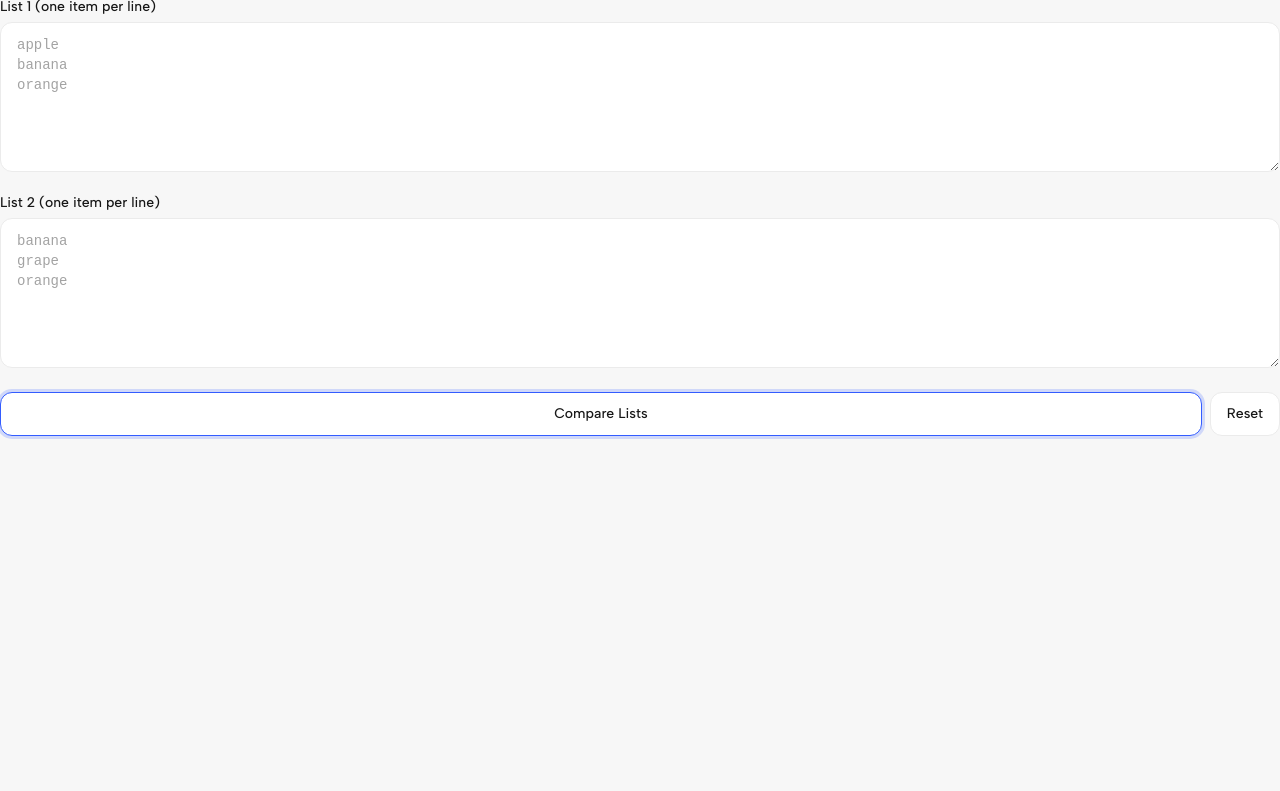
Test: ListComparerTool › compares two lists and shows results
The image size is (1280, 791).
Type "apple banana orange" into the text box with placeholder "apple banana orange" at {"x": 640, "y": 97}, box x1=0 y1=22 x2=1279 y2=172
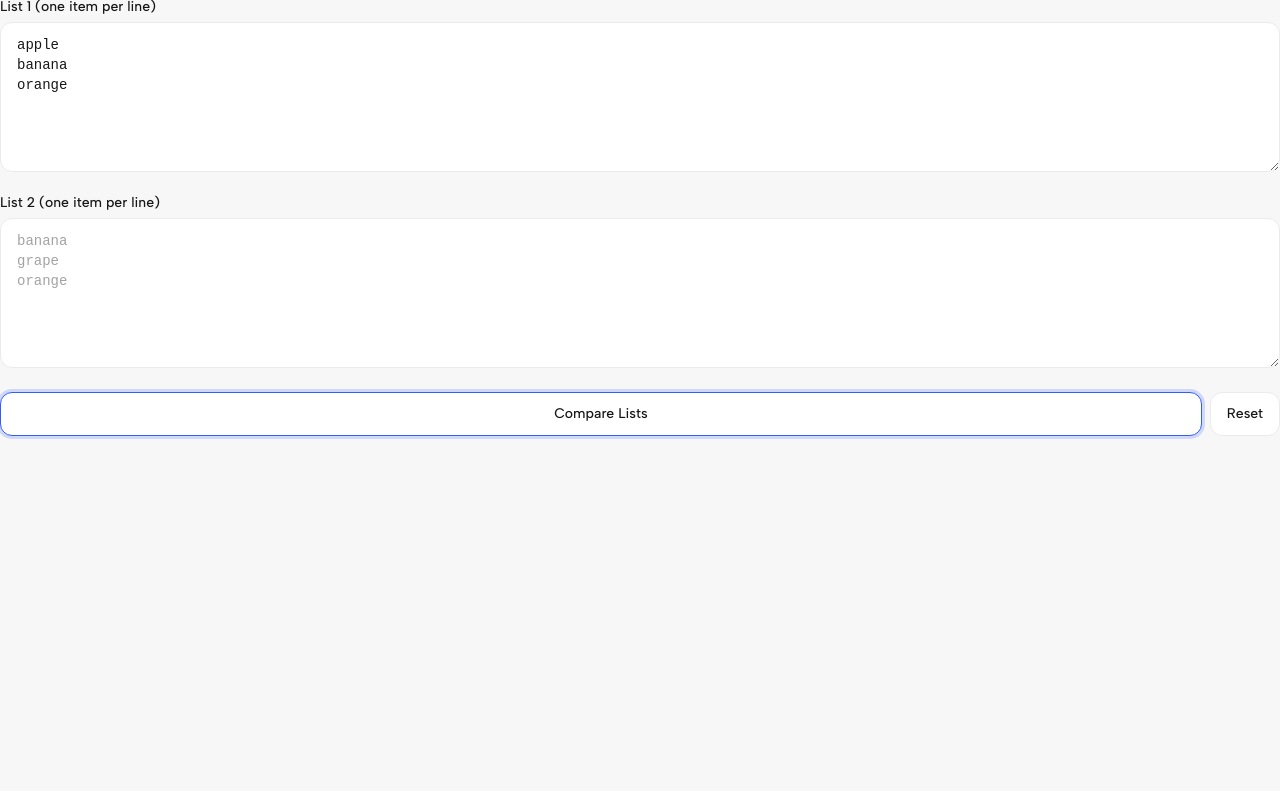
Type "banana grape orange" into the text box with placeholder "banana grape orange" at {"x": 640, "y": 293}, box x1=0 y1=218 x2=1279 y2=368
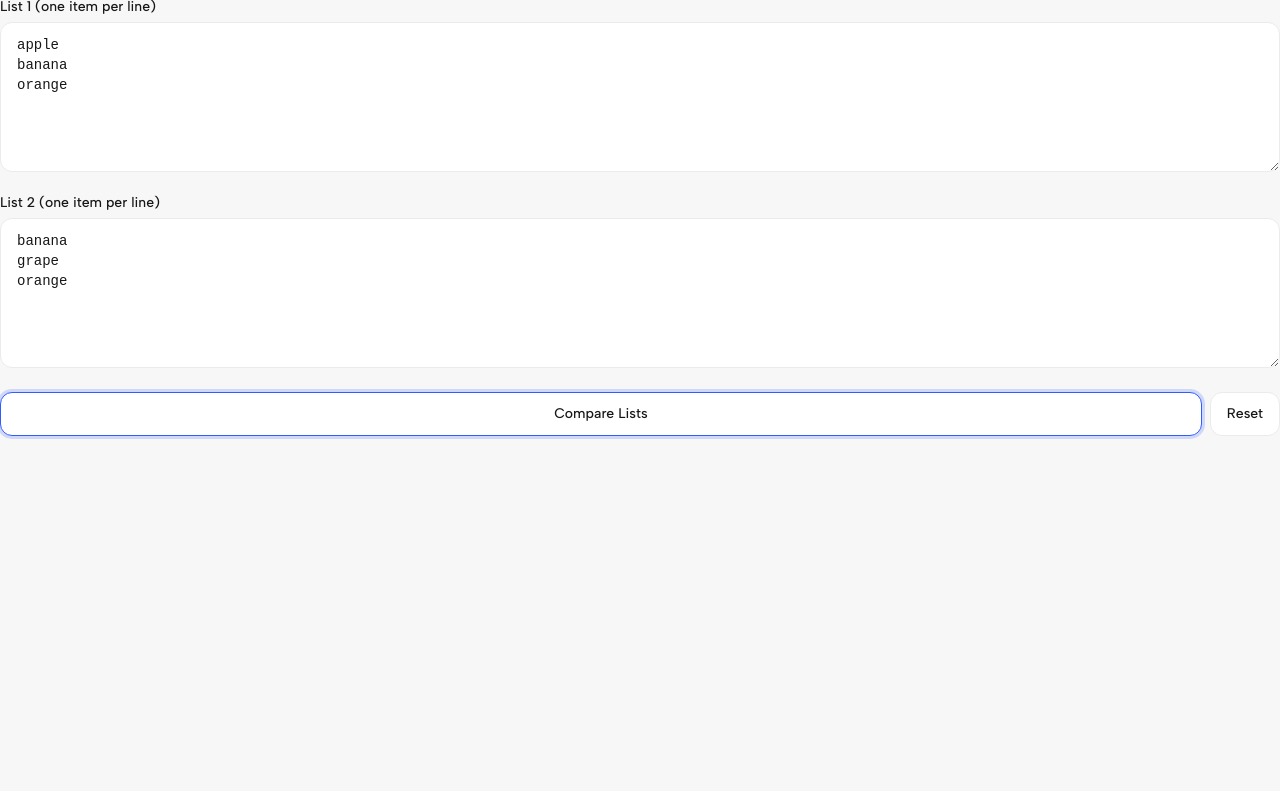
Click the button "Compare Lists" at {"x": 601, "y": 414}, box x1=0 y1=392 x2=1202 y2=436
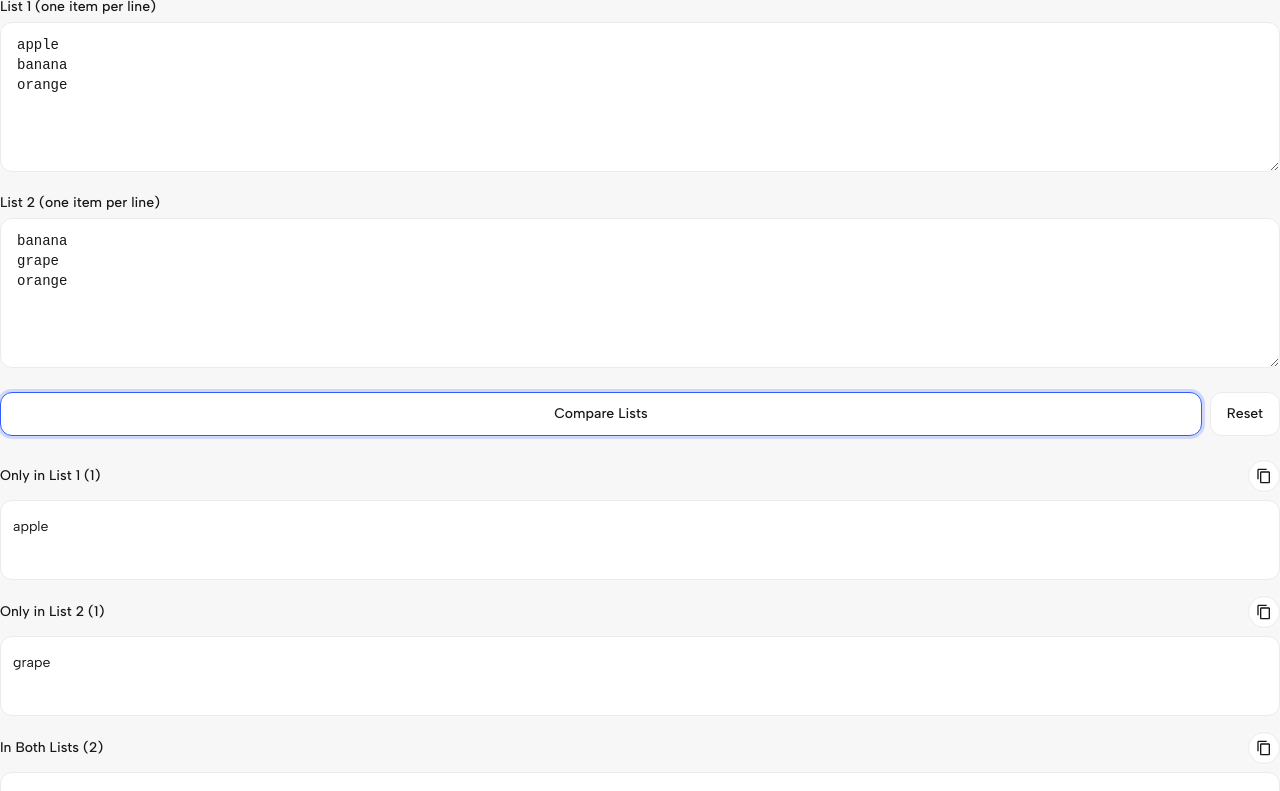
Check: the text "Only in List 1 (1)" is shown, box x1=0 y1=469 x2=100 y2=483
Check: the text "Only in List 2 (1)" is shown, box x1=0 y1=605 x2=104 y2=619
Check: the text "In Both Lists (2)" is shown, box x1=0 y1=741 x2=103 y2=755
